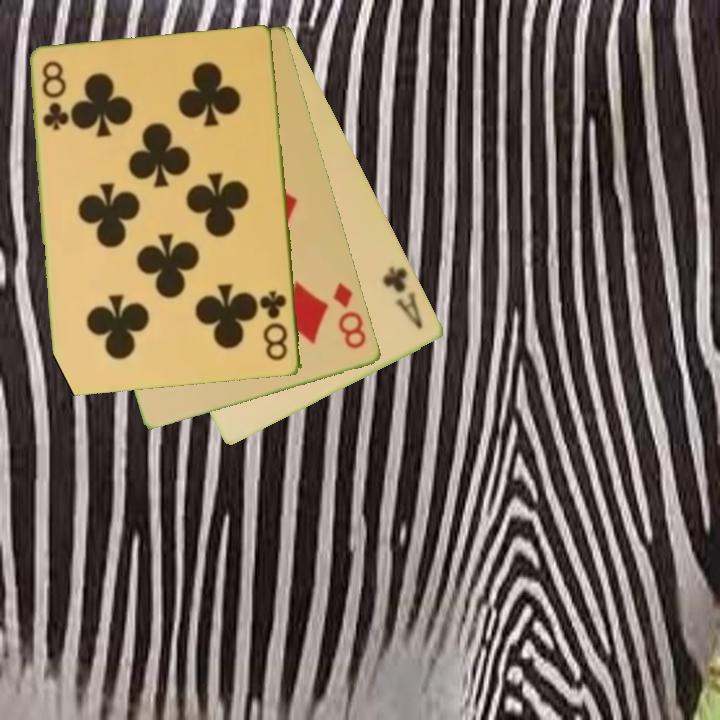8c: (258, 287, 292, 364), (39, 58, 70, 134)
8d: (330, 279, 370, 352)
Ac: (379, 263, 427, 332)
